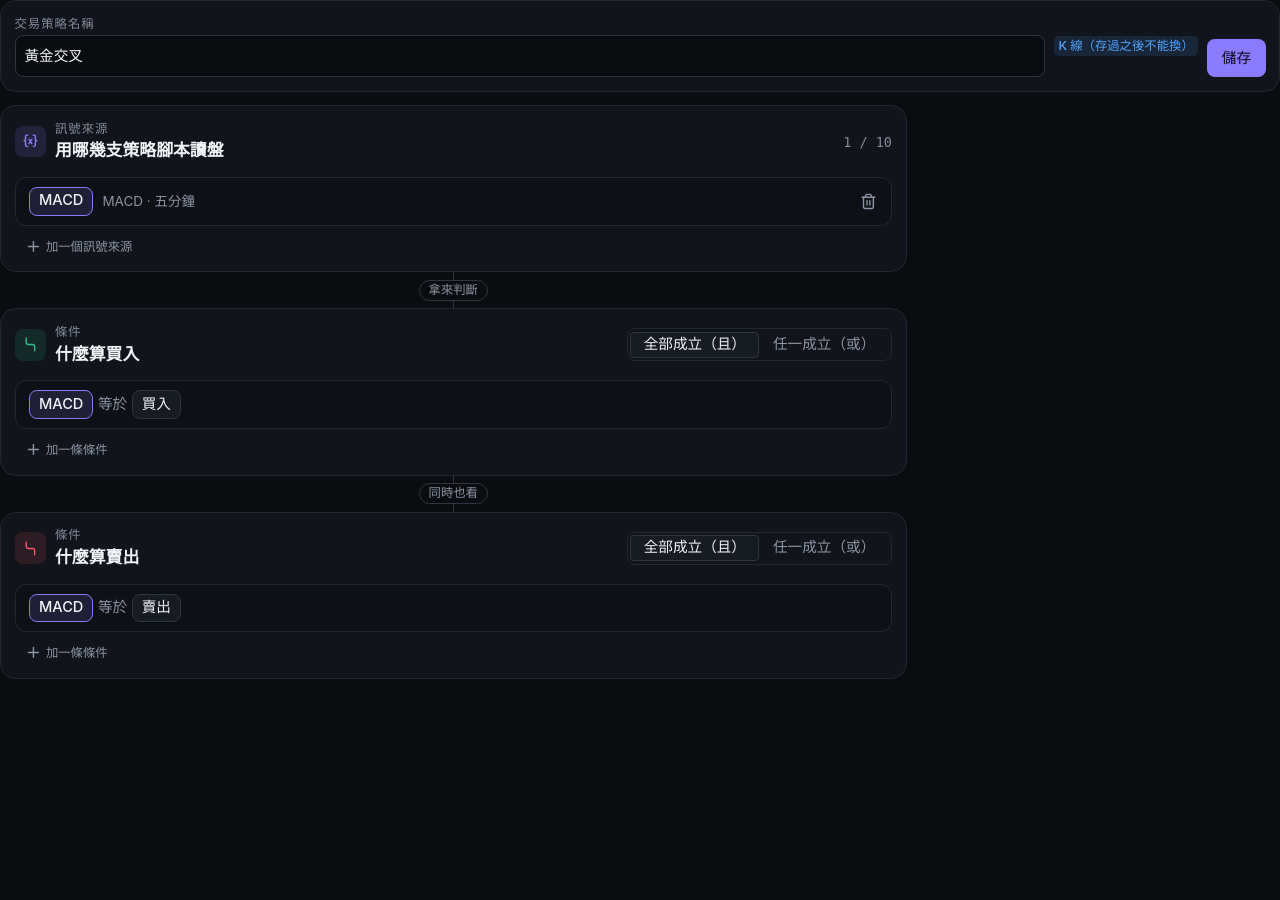
Test: TradingStrategyWorkbench：手機上可以編 › 寬螢幕上設定就貼在卡旁邊，不是疊上來的一張紙
The image size is (1280, 900).
Click the button with test id "item-buy-MACD": (51, 400) [14,380,892,429]
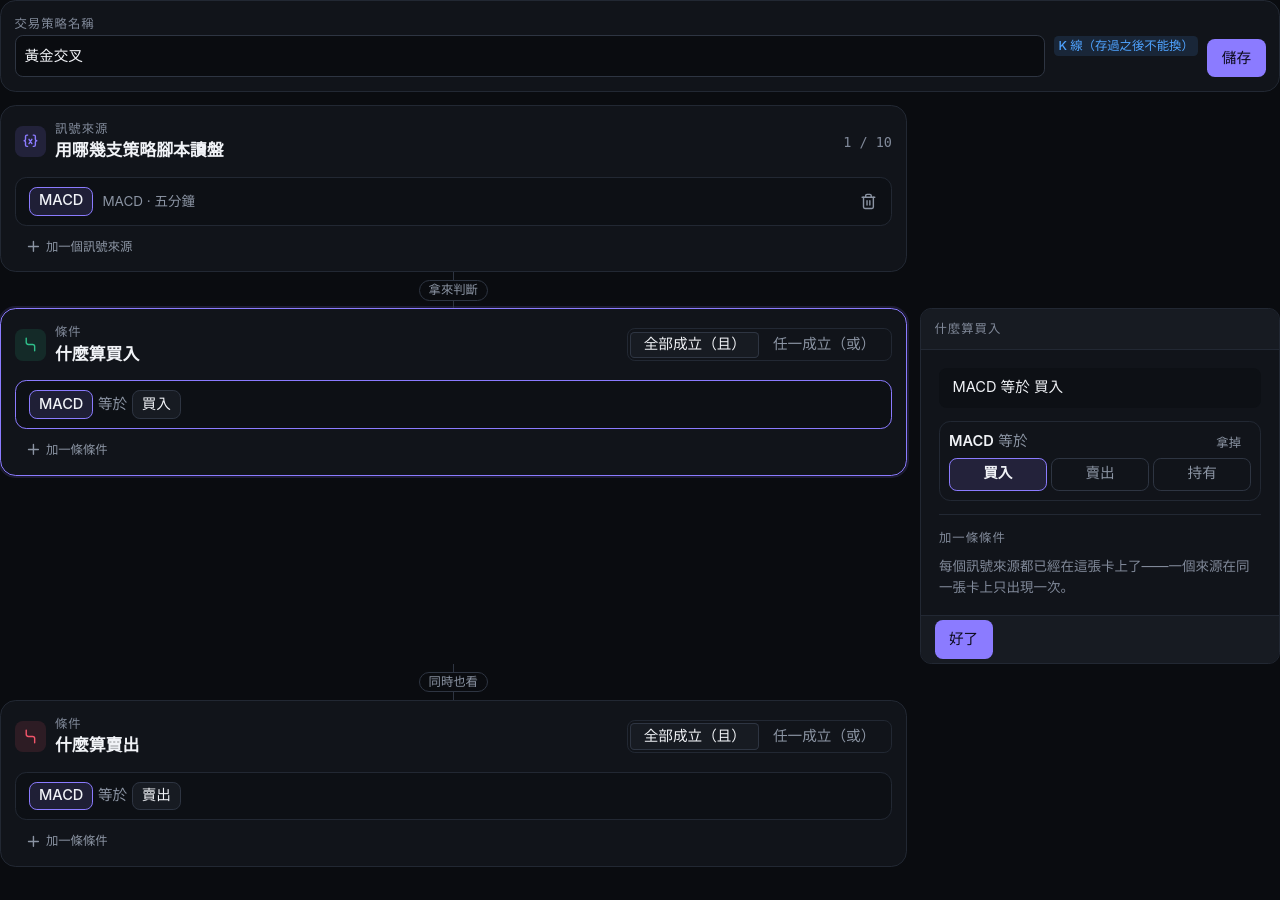
Expected: the element with test id "item-settings-buy" is shown, [939,421,1261,501]
